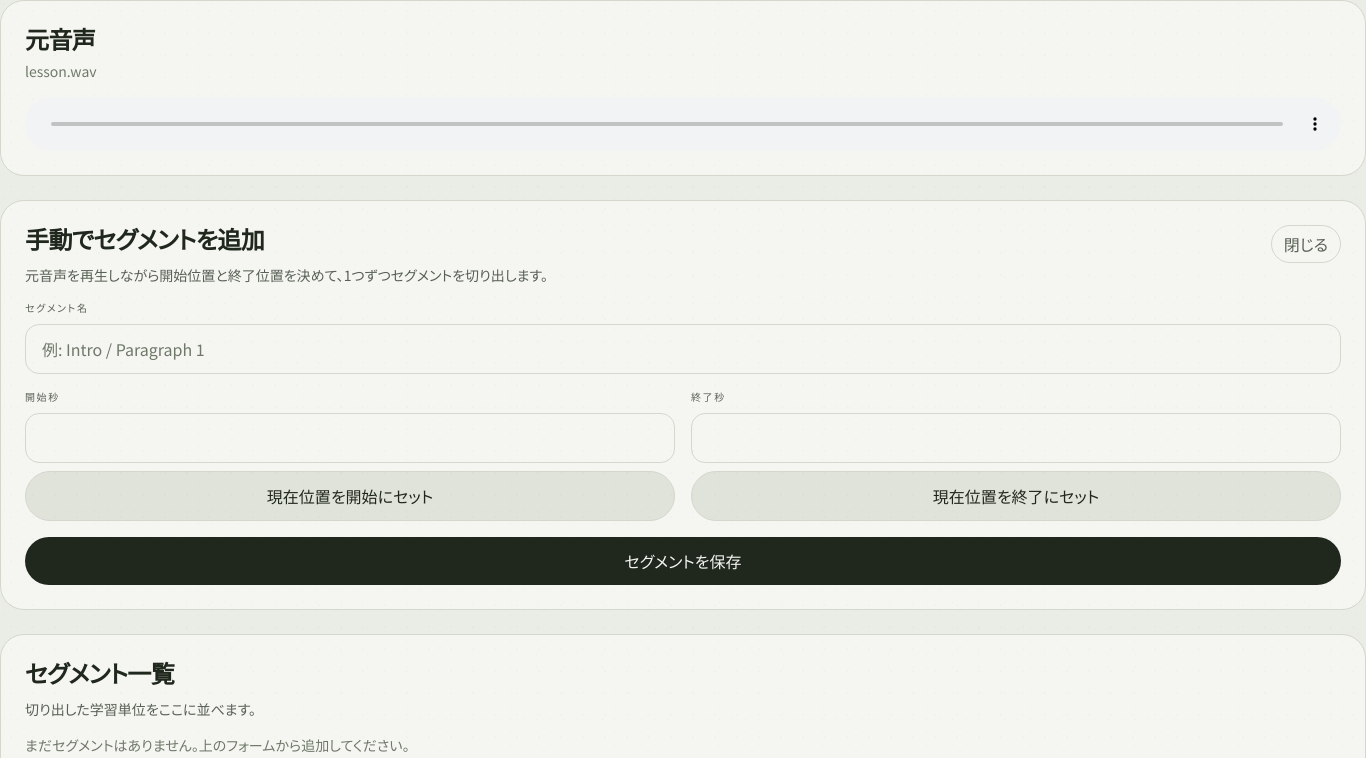
it: ProjectSegmentWorkspace › appends a newly created segment to the visible list without a full reload
Type "01" into the field labelled "セグメント名" at (683, 349), box [25,324,1341,374]
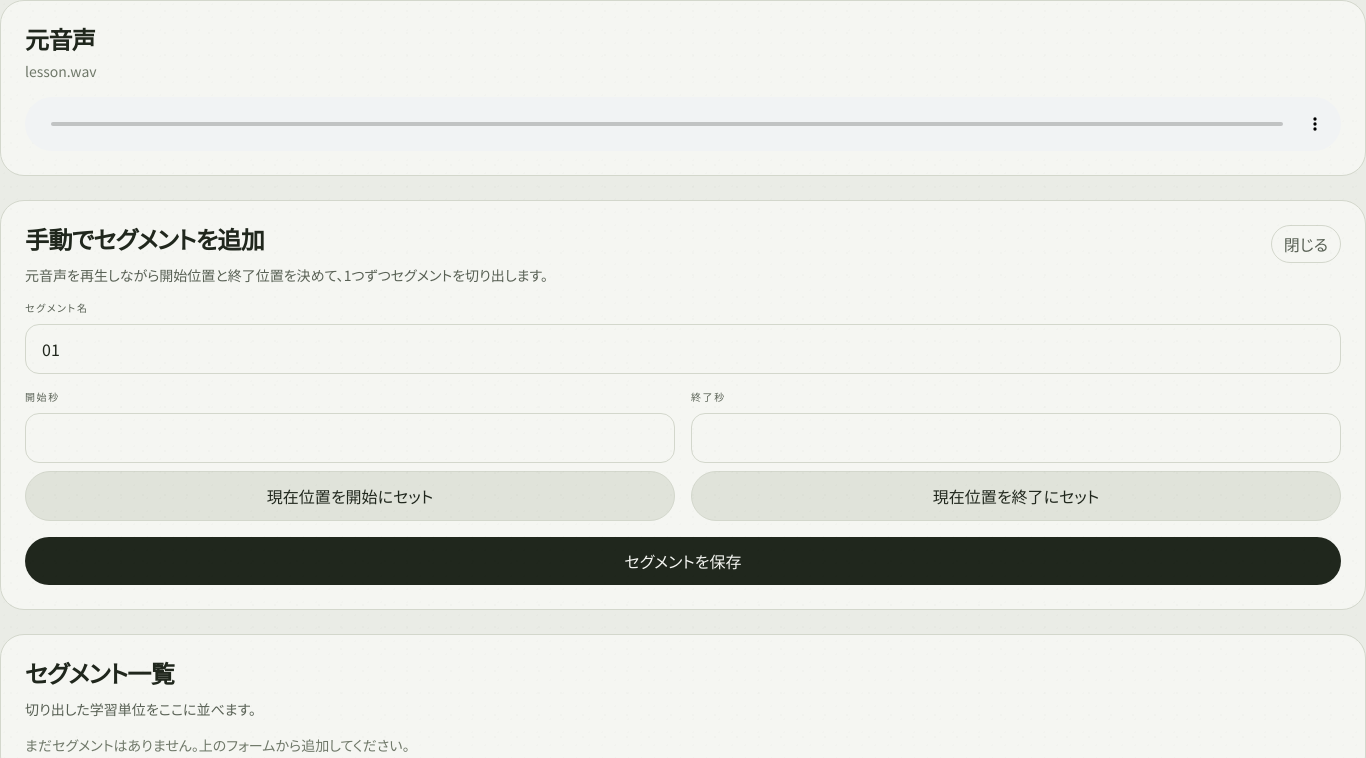
Type "0" into the number field labelled "開始秒" at (350, 438), box [25,413,675,463]
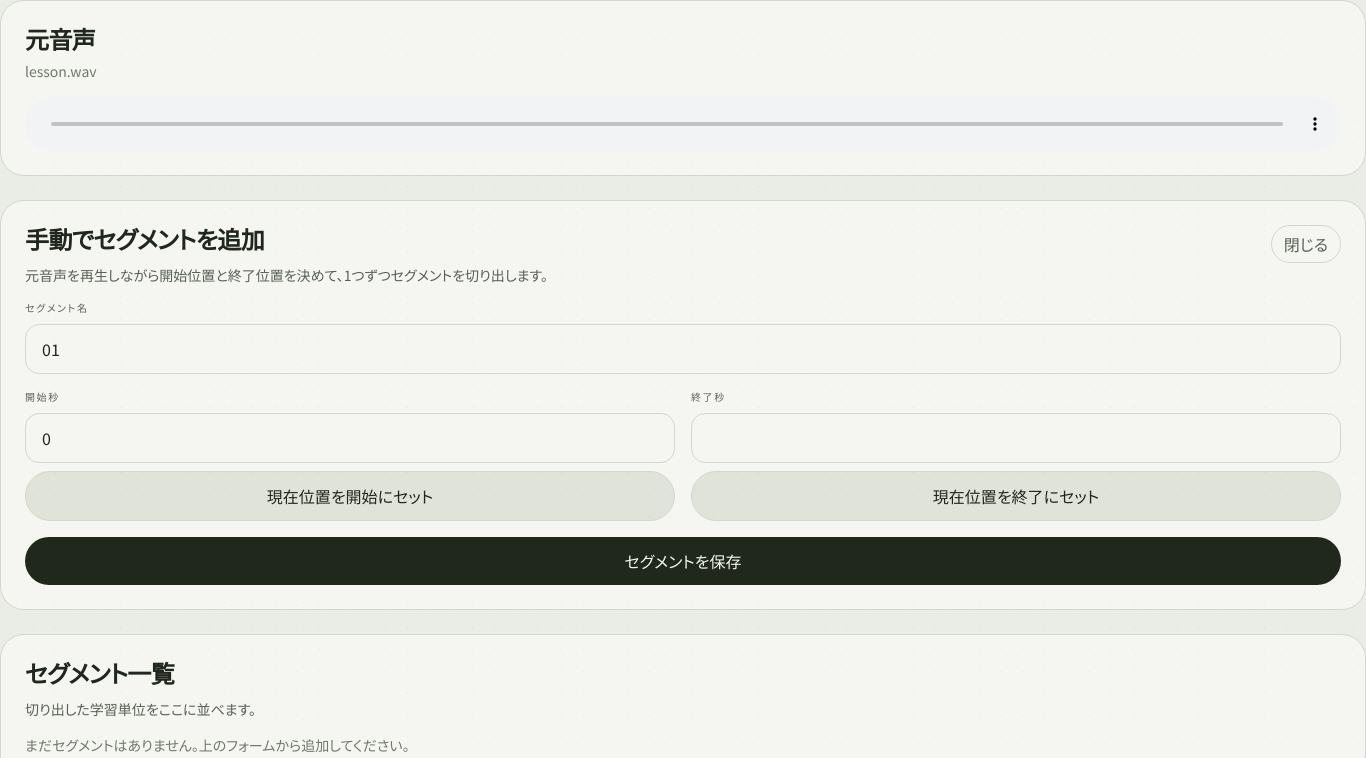
Type "16" into the number field labelled "終了秒" at (1016, 438), box [691,413,1341,463]
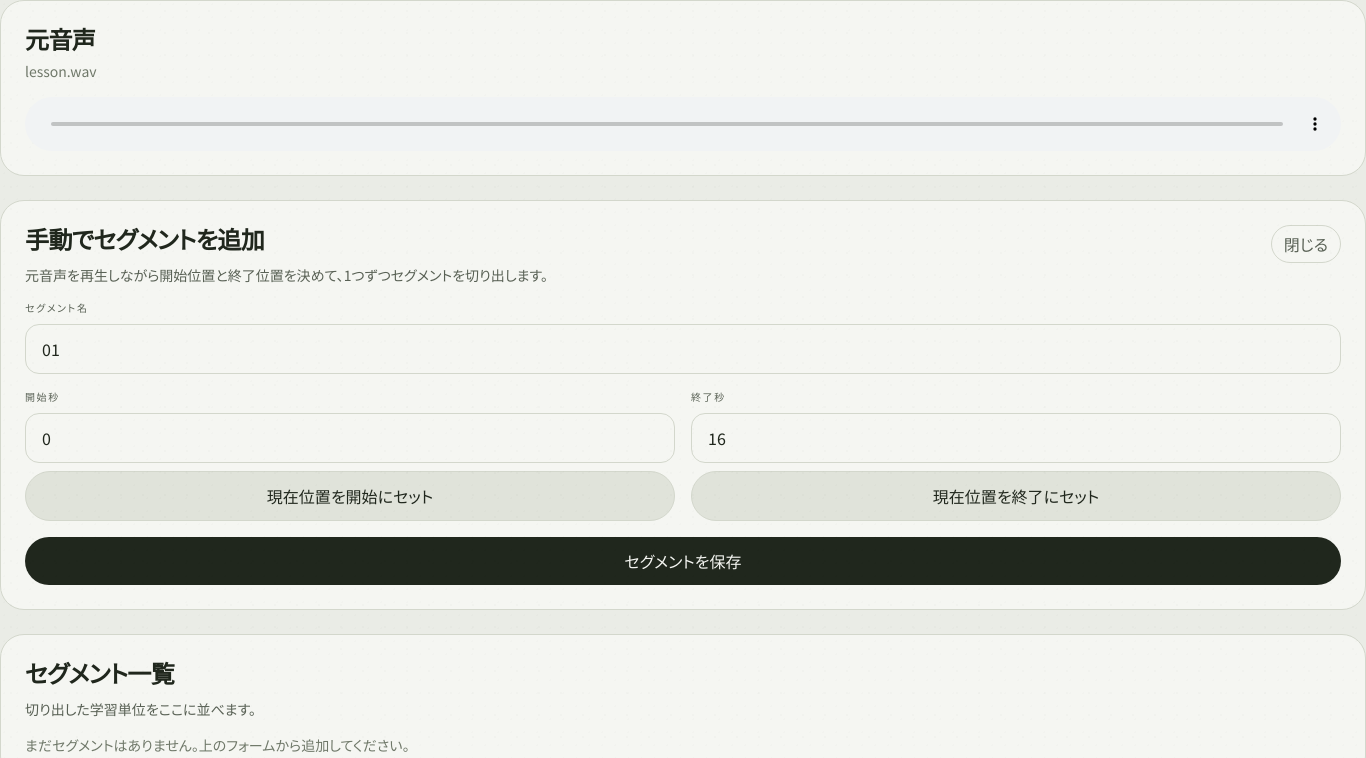
Click the button "セグメントを保存" at (683, 561), box [25,537,1341,585]
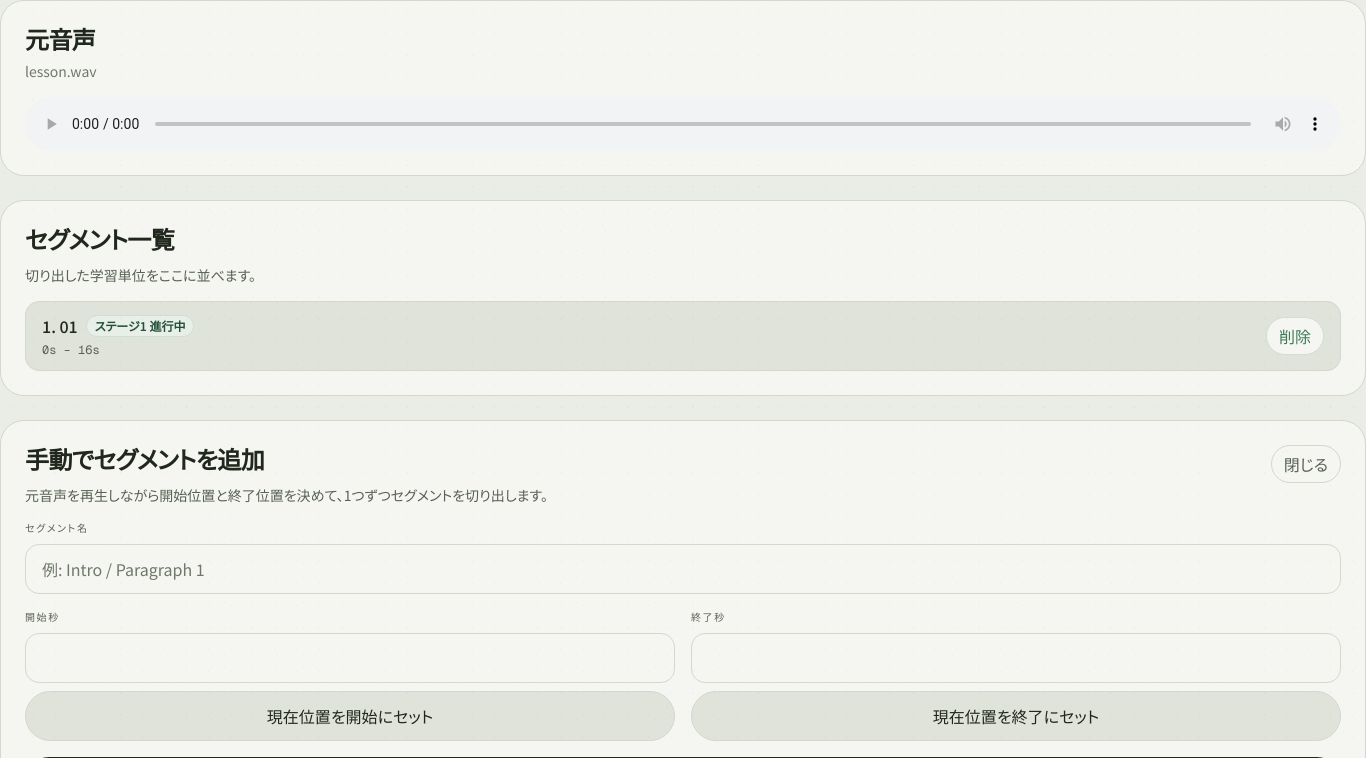
Now the text "1. 01" is shown, box [42,314,78,338]
